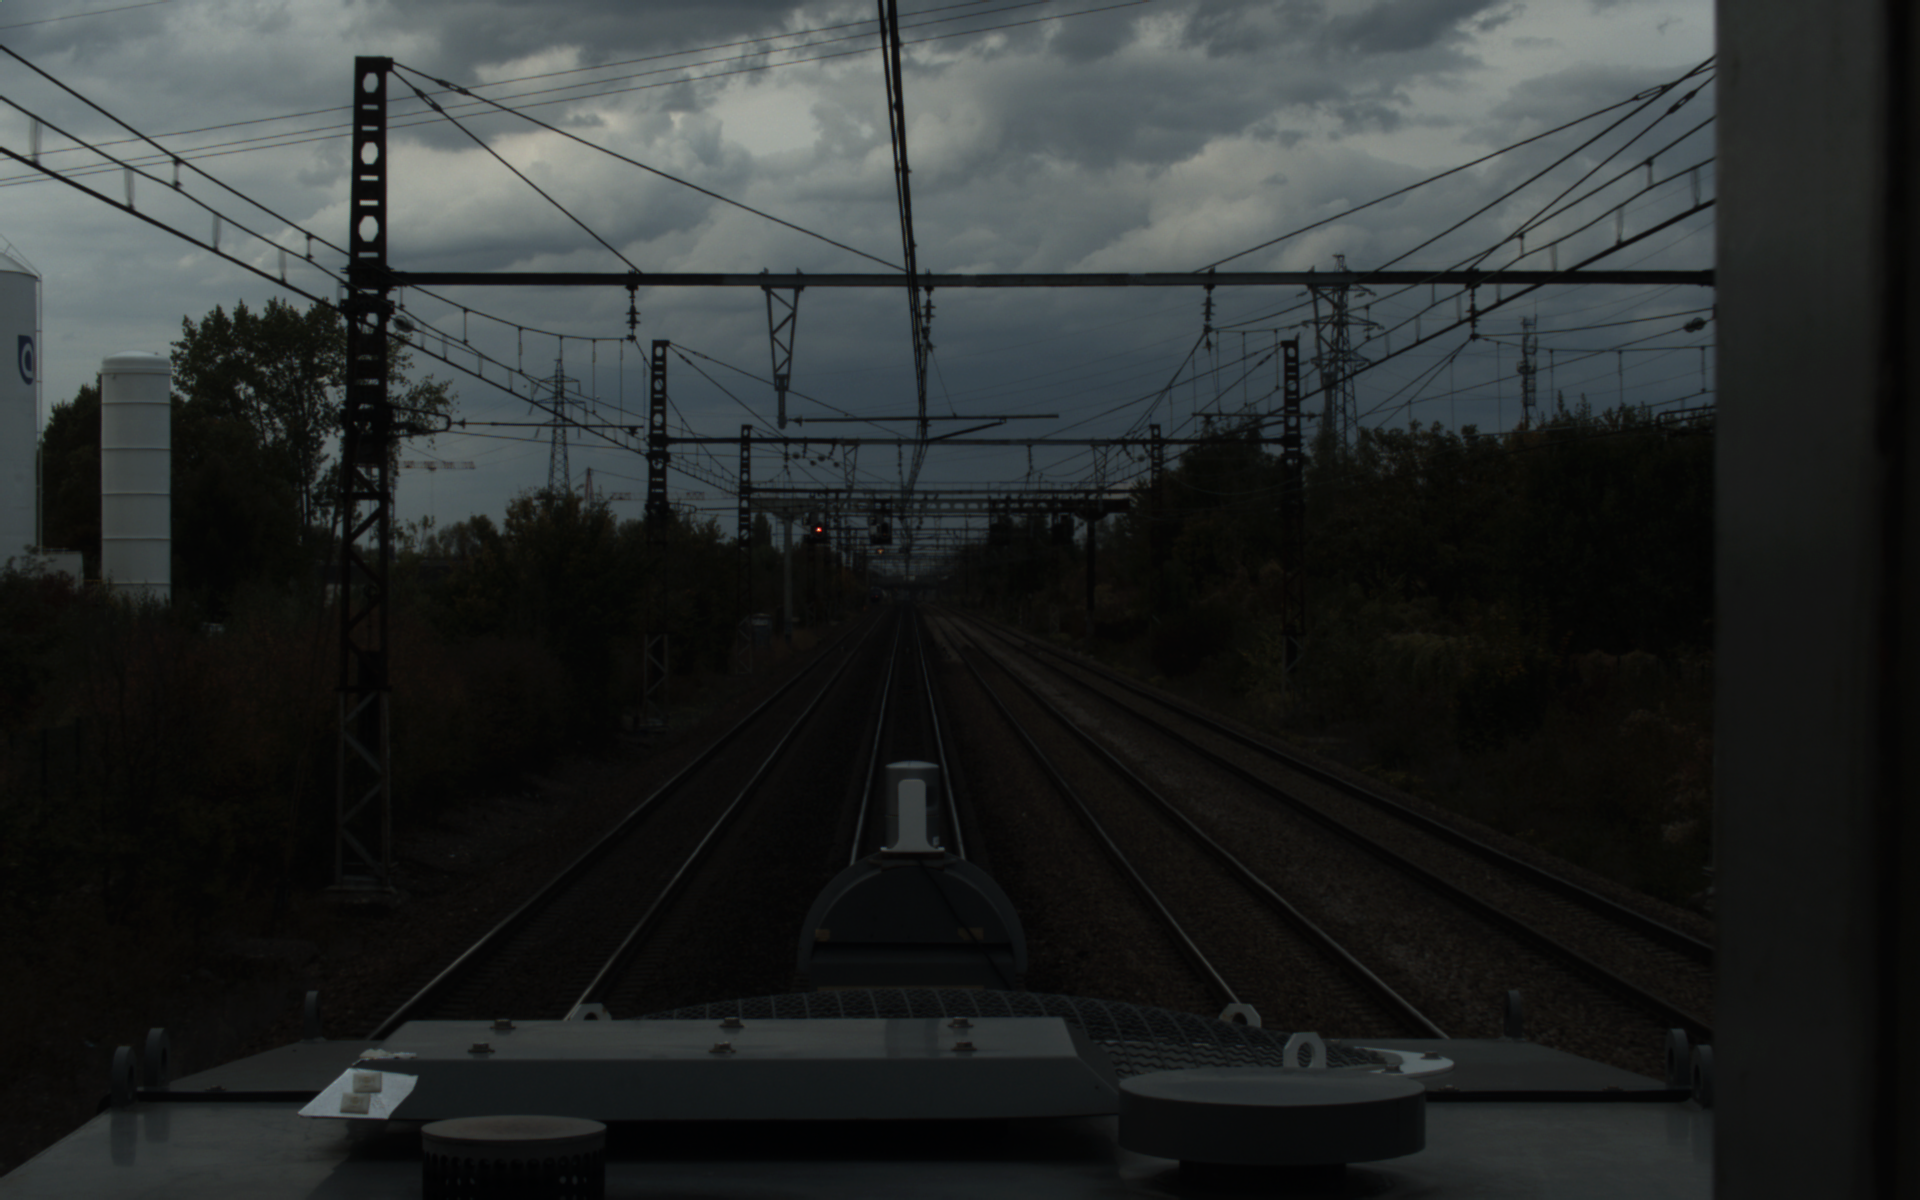Blinking: (876, 518, 892, 543)
Fixed: (811, 518, 827, 541)
